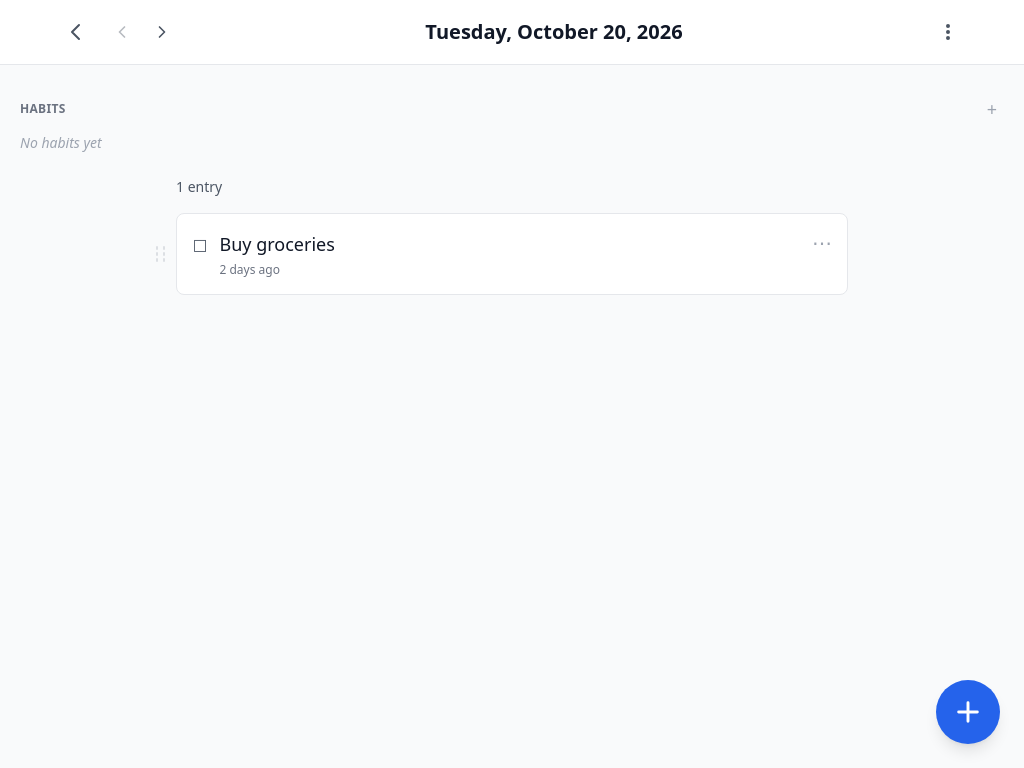
Test: CollectionDetailView - Migrate all open tasks to Today › should show "Migrate all open tasks → Today" menu item when collection is NOT today and has active tasks
Check: the text "Buy groceries" is shown, box [220,232,335,256]
Click the button named "collection menu" at (948, 32), box [928,12,968,52]
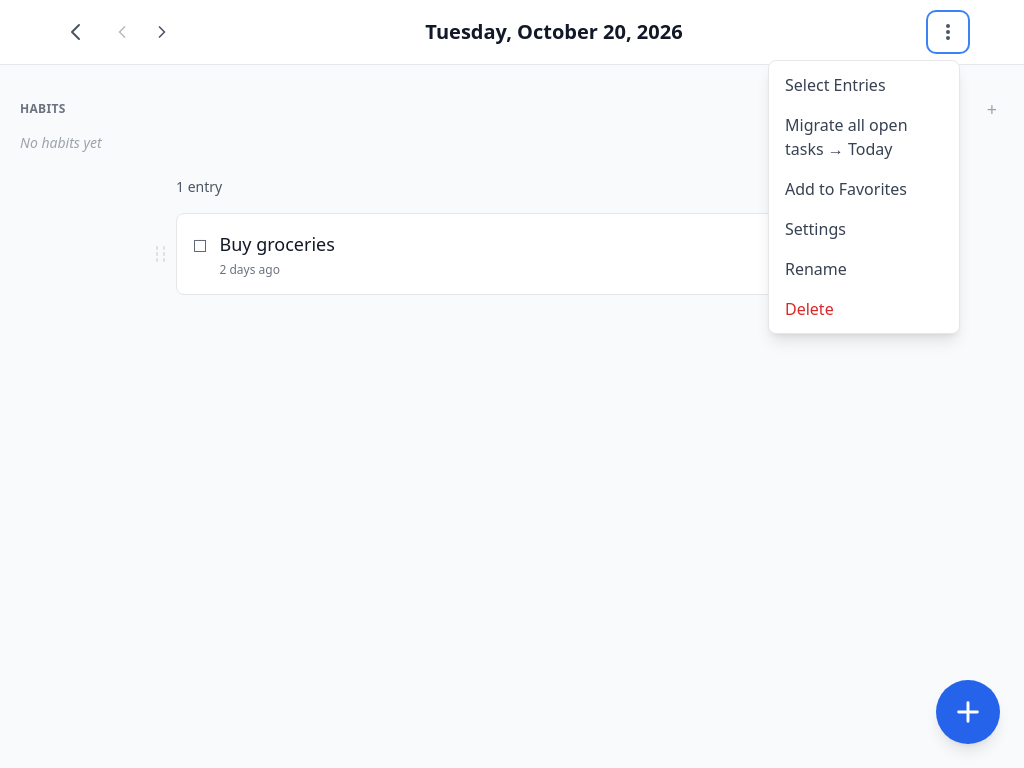
Check: the button "Migrate all open tasks → Today" is shown, box [769,105,959,169]
